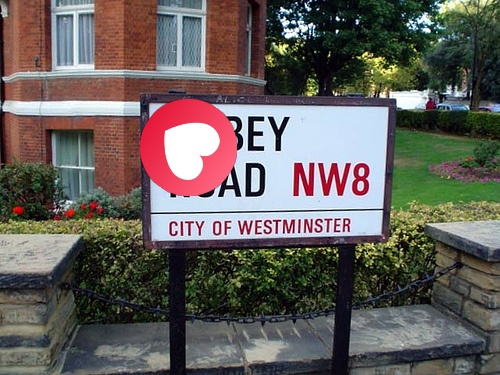love: (140, 99, 237, 196)
